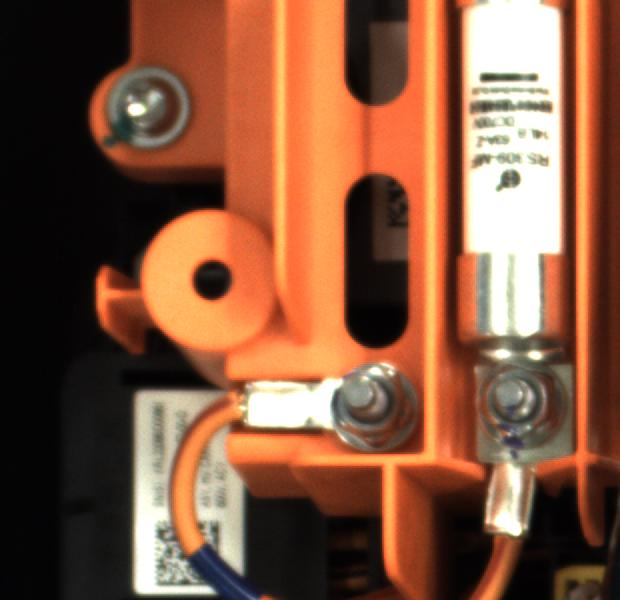screw_m: (89, 64, 211, 155)
screw_s: (476, 358, 576, 455), (326, 350, 417, 449)
